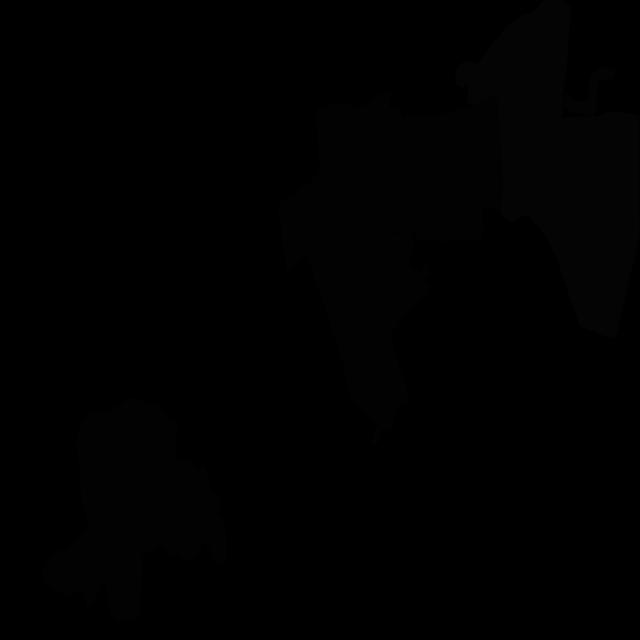cardboard: (97, 397, 228, 567), (41, 408, 144, 622), (278, 151, 406, 317), (398, 95, 503, 241), (349, 92, 414, 271), (328, 257, 431, 364), (343, 333, 410, 447), (316, 101, 356, 172)
metal: (563, 67, 615, 116)
soft_plastic: (455, 0, 640, 339)
